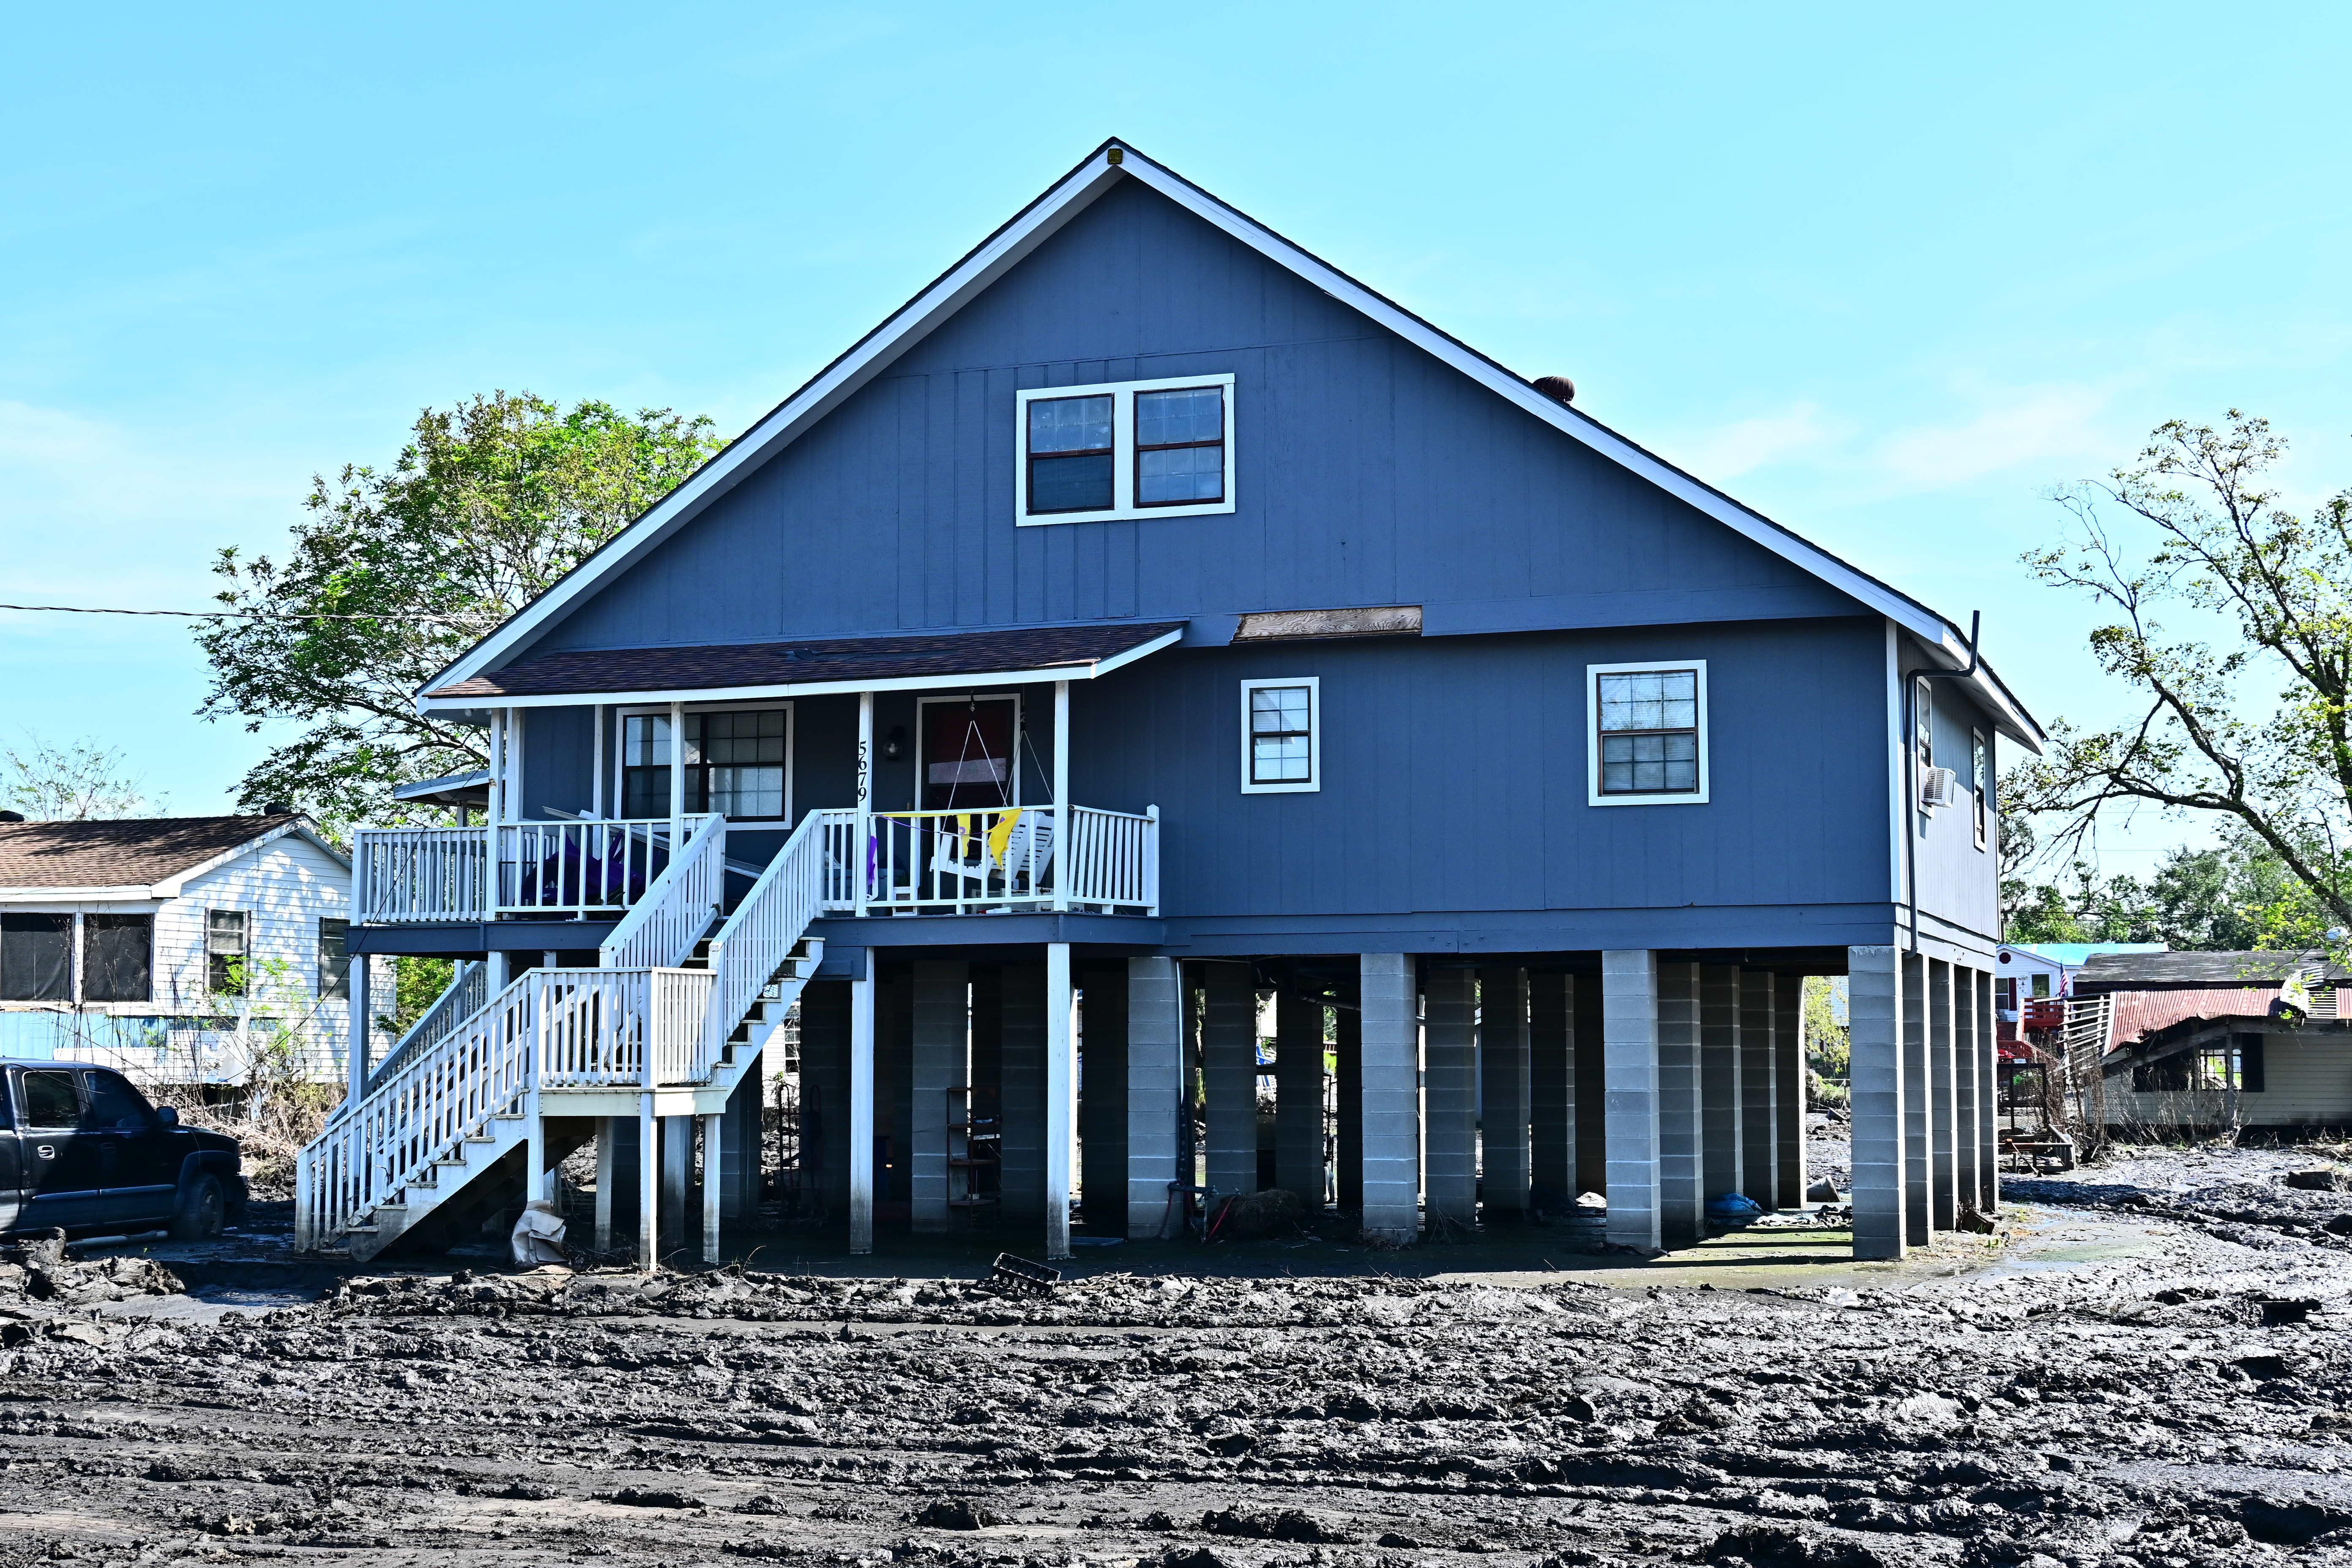minor: (284, 114, 2119, 1299)
